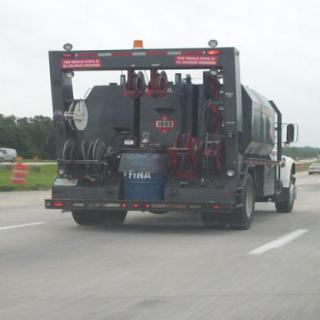Normal_vehicle: (33, 31, 302, 231)
